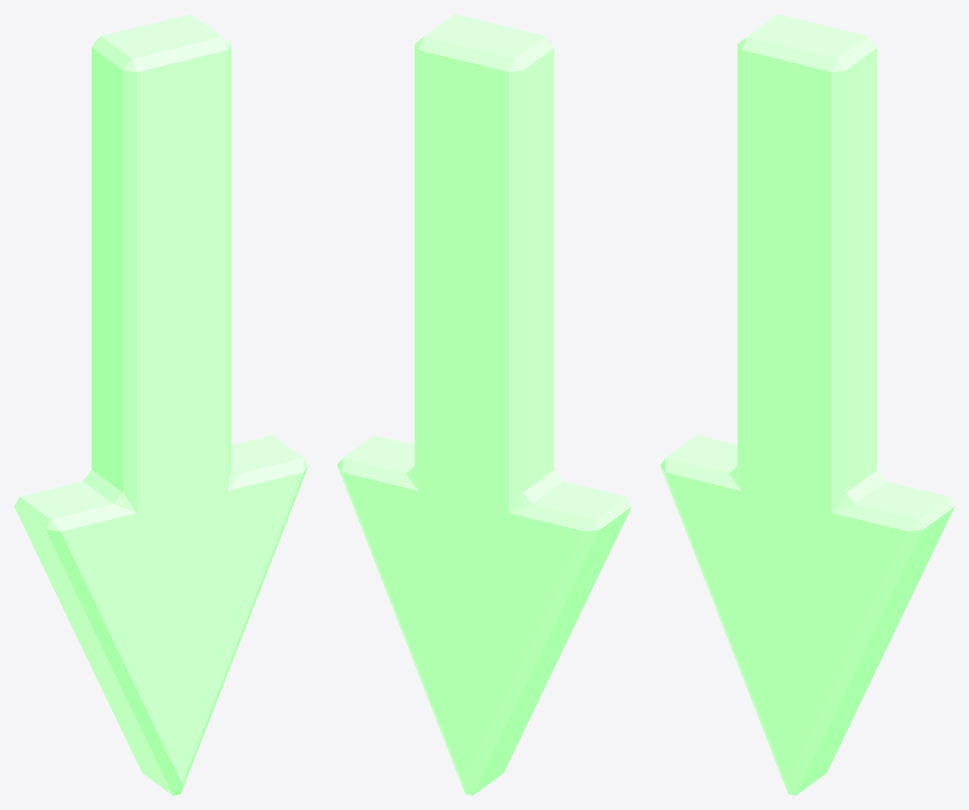
File: FX_Arrow_Down.fbx
3 views of the same model, side by side, from view 1: azimuth 30°, elevation 25°; view 2: azimuth 150°, elevation 25°; view 3: azimuth 330°, elevation 25° (orthographic).
Visible parts, largest first — view 1: FX_Arrow_Down; view 2: FX_Arrow_Down; view 3: FX_Arrow_Down.
Boxes of the visible parts, x1,y1,x2,y2 form: FX_Arrow_Down: [14, 14, 308, 795]; FX_Arrow_Down: [337, 14, 631, 795]; FX_Arrow_Down: [660, 14, 954, 795].
Bounding box in the file's own units: 0.4377 × 1.19 × 0.12.
